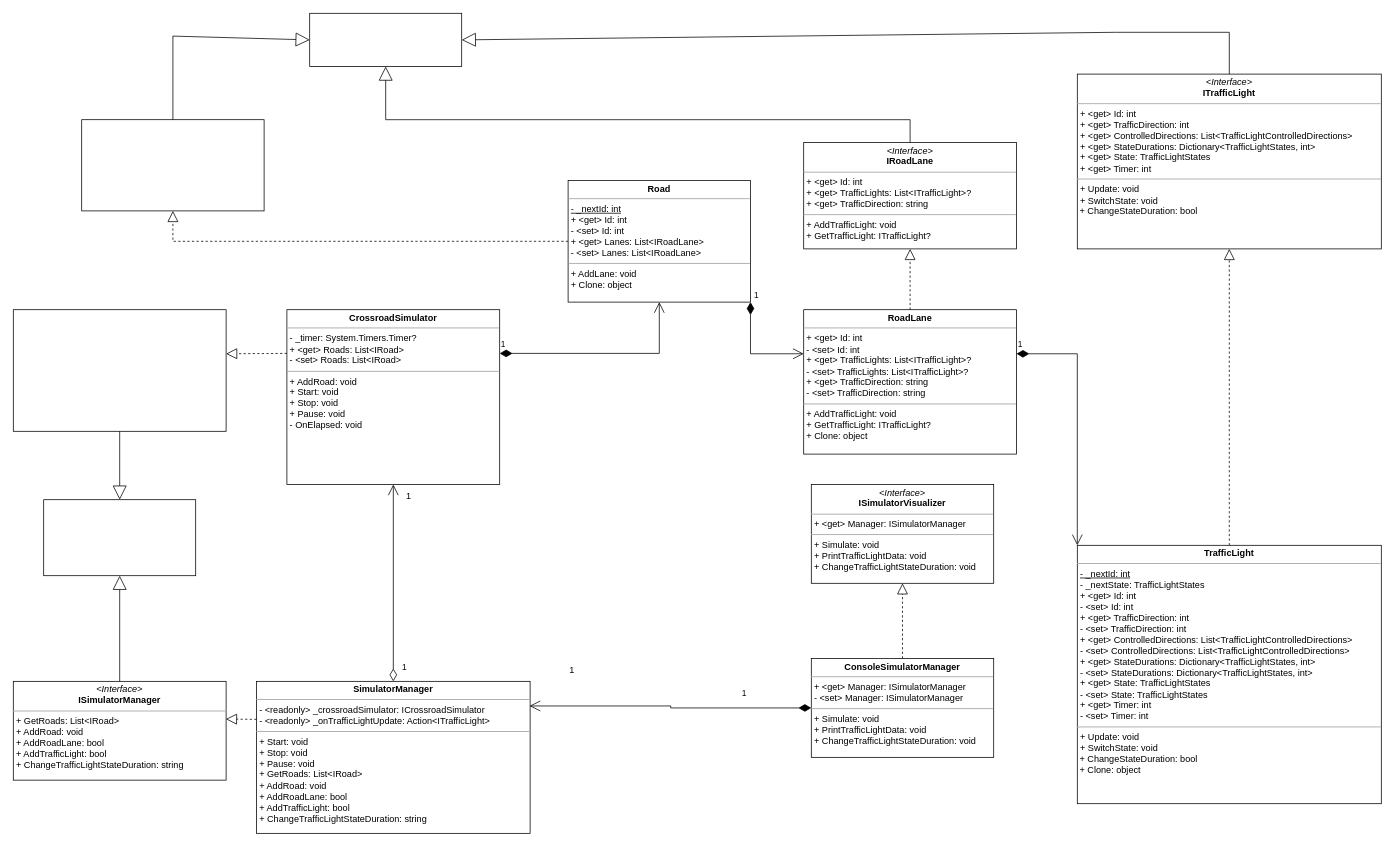
Some shapes in this 1395 by 847 pixel diagram are drawn without their labels. Here are the shapes that lost their labels. From the top down, the box of each, then its label:
(309, 13, 462, 66): <Interface> ICloneable + Clone: object
(81, 119, 264, 211): <Interface> IRoad + <get> Id: int + <get> Lanes: List<IRoadLane> + AddLane: void
(13, 309, 226, 431): <Interface> ICrossroadSimulator + <get> Roads: List<IRoad> + AddRoad: void
(43, 499, 196, 576): <Interface> ITimer + Start: void + Stop: void + Pause: void
